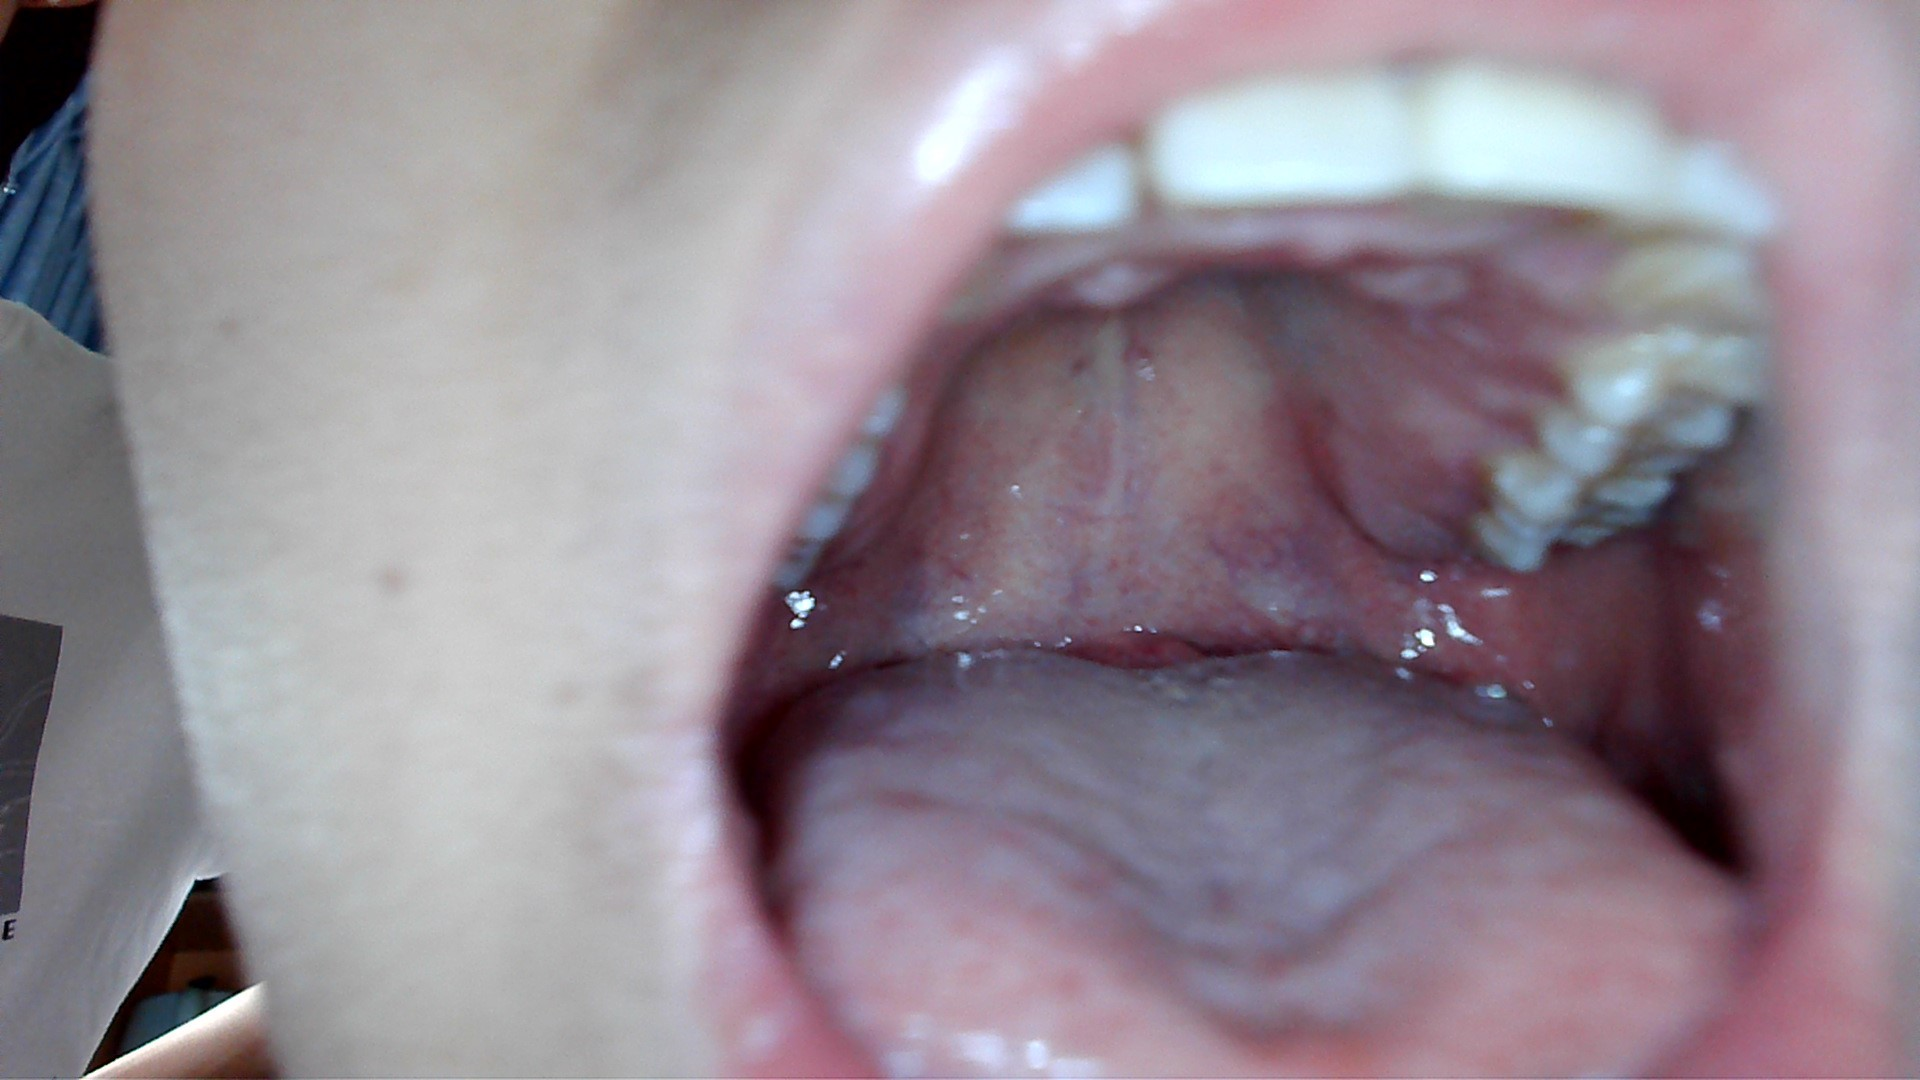throat: (1215, 572, 1398, 684)
